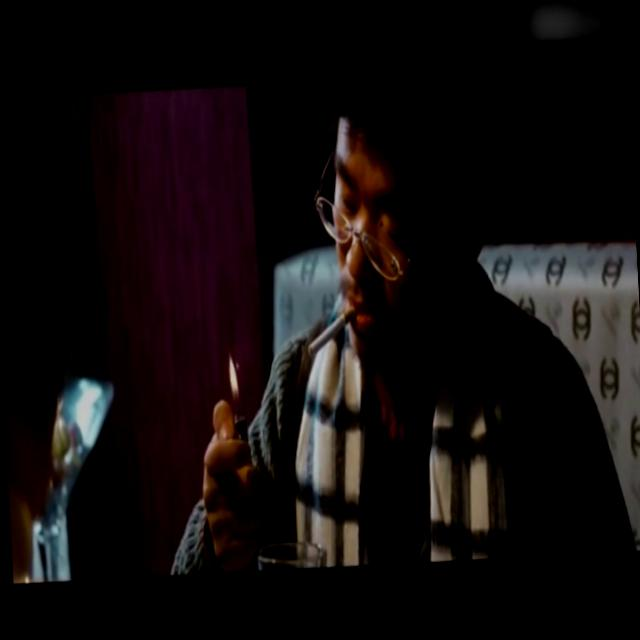cigarette: (304, 302, 354, 357)
